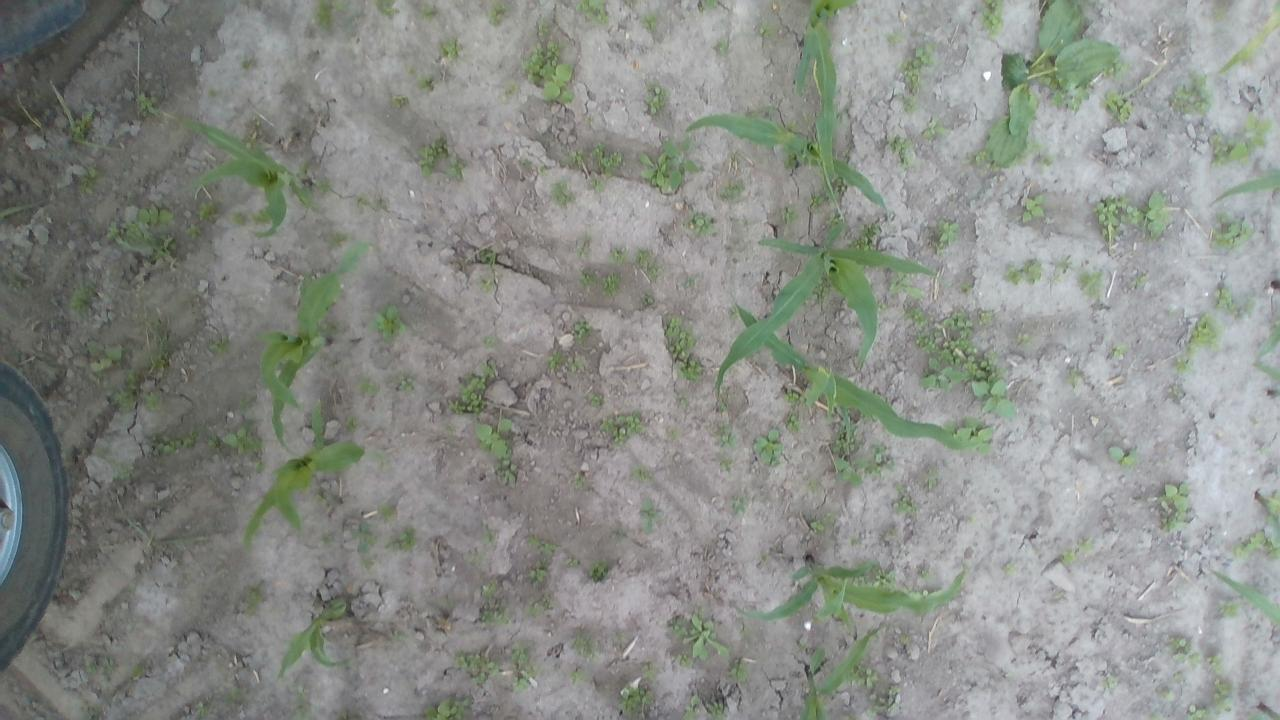Maize: (712, 215, 941, 402), (728, 298, 988, 452), (252, 235, 370, 450), (683, 109, 893, 221), (162, 108, 326, 242), (240, 403, 384, 549), (730, 552, 969, 634), (786, 0, 860, 223), (785, 624, 884, 720), (273, 594, 357, 682), (1214, 0, 1280, 77), (1207, 568, 1280, 627), (1205, 168, 1280, 208)
Weeds: (978, 0, 1122, 170), (45, 78, 118, 154), (1091, 191, 1174, 248), (103, 203, 182, 261), (961, 346, 1016, 420), (638, 133, 702, 196), (518, 40, 577, 106), (562, 140, 626, 198), (1173, 310, 1229, 374), (895, 40, 940, 118), (474, 422, 529, 485), (1210, 114, 1274, 167), (660, 318, 709, 384), (669, 609, 728, 663), (446, 356, 496, 419), (1152, 476, 1196, 537), (1164, 72, 1216, 122), (81, 338, 132, 386), (466, 240, 506, 298), (937, 308, 977, 364), (413, 127, 454, 180), (944, 414, 997, 453), (67, 280, 113, 324), (456, 646, 504, 688), (598, 410, 648, 450), (1207, 210, 1258, 249), (748, 423, 788, 472), (367, 303, 412, 346), (140, 316, 172, 376), (1231, 526, 1279, 564), (93, 441, 136, 482), (104, 368, 141, 415), (148, 426, 201, 458), (920, 355, 964, 390), (424, 691, 477, 720), (510, 641, 540, 691), (864, 685, 906, 720), (224, 420, 267, 454), (830, 413, 863, 456), (975, 0, 1008, 43), (615, 686, 656, 720), (854, 566, 907, 591), (1212, 288, 1256, 318), (1160, 636, 1201, 668), (640, 78, 673, 116), (476, 598, 515, 630), (1208, 674, 1236, 718), (863, 441, 896, 478), (1016, 189, 1049, 226), (1101, 88, 1134, 125), (1250, 490, 1280, 530), (638, 496, 667, 537), (686, 208, 722, 241), (540, 350, 588, 374), (70, 162, 102, 198), (572, 630, 604, 666), (831, 456, 868, 487), (1002, 256, 1040, 286), (573, 0, 612, 29), (884, 133, 915, 168), (1050, 90, 1092, 115), (316, 0, 346, 35), (1106, 443, 1142, 472), (136, 92, 168, 124), (546, 176, 578, 207), (850, 220, 883, 250), (886, 273, 924, 299), (1076, 268, 1106, 299), (932, 220, 962, 251), (634, 7, 664, 38), (893, 485, 922, 517), (484, 0, 516, 29), (386, 525, 417, 553), (634, 248, 660, 281), (716, 177, 750, 202), (351, 521, 378, 552), (527, 592, 558, 619), (1025, 144, 1056, 170), (286, 687, 310, 720), (240, 582, 262, 618), (1214, 598, 1244, 624), (209, 330, 235, 360), (918, 114, 946, 141), (438, 34, 465, 62), (570, 231, 596, 260), (69, 701, 108, 720), (598, 268, 624, 296), (530, 15, 561, 38), (353, 191, 385, 213), (443, 152, 465, 184), (0, 260, 25, 288), (922, 461, 946, 490), (900, 303, 929, 326), (1050, 254, 1072, 284), (856, 664, 882, 689), (356, 373, 382, 398), (528, 557, 554, 582), (412, 72, 439, 96), (464, 545, 491, 569), (585, 558, 612, 582), (716, 424, 739, 452), (410, 1, 438, 24), (815, 278, 837, 307), (640, 660, 665, 685), (572, 320, 596, 346), (195, 198, 219, 224), (727, 658, 751, 684), (784, 386, 812, 408), (376, 502, 404, 524), (1164, 379, 1188, 404), (324, 228, 349, 252), (575, 268, 598, 294), (1106, 340, 1132, 363), (674, 392, 696, 419), (1203, 649, 1225, 676), (396, 368, 418, 395), (1186, 703, 1220, 720), (371, 0, 403, 18), (237, 390, 260, 415), (629, 462, 655, 484), (220, 686, 247, 707), (912, 332, 937, 354), (312, 170, 334, 195), (805, 516, 831, 537), (1130, 270, 1157, 290), (609, 526, 632, 549), (608, 248, 632, 270), (181, 703, 212, 720), (500, 78, 521, 103), (707, 701, 734, 720), (808, 190, 831, 212), (892, 622, 913, 646), (782, 410, 802, 435), (243, 116, 262, 142), (713, 35, 736, 56), (683, 696, 703, 720), (226, 206, 250, 226), (569, 668, 595, 686), (968, 148, 991, 168), (1066, 367, 1086, 390), (1105, 58, 1128, 78), (777, 204, 800, 224), (478, 580, 501, 600), (834, 176, 853, 200), (478, 520, 495, 546), (83, 655, 104, 676), (388, 92, 410, 112), (130, 662, 152, 682), (977, 306, 996, 329), (886, 28, 910, 46), (763, 98, 780, 123), (780, 153, 805, 170), (570, 471, 590, 492), (1076, 535, 1096, 556), (1210, 4, 1230, 25), (184, 221, 204, 242), (143, 392, 164, 412), (753, 21, 775, 40), (804, 110, 820, 136), (730, 494, 746, 519), (564, 551, 584, 571), (479, 336, 498, 357), (1156, 687, 1179, 704), (14, 693, 40, 708), (825, 209, 845, 228), (342, 414, 361, 434), (636, 292, 658, 309), (204, 432, 222, 452), (591, 392, 612, 409), (1018, 332, 1040, 348), (1053, 588, 1072, 606), (1058, 548, 1077, 566), (733, 624, 752, 642), (528, 532, 546, 551), (681, 273, 701, 290), (804, 478, 824, 495), (702, 0, 728, 13), (446, 422, 462, 442), (400, 61, 421, 76), (103, 657, 118, 678), (517, 156, 534, 174), (205, 86, 224, 102), (612, 628, 626, 649), (1002, 558, 1018, 576), (390, 630, 410, 644), (316, 534, 336, 548), (534, 161, 550, 178), (360, 557, 377, 573), (239, 54, 254, 72), (125, 578, 140, 596), (720, 458, 734, 477), (1105, 673, 1119, 692), (1172, 669, 1186, 688), (917, 562, 933, 578), (845, 531, 862, 546), (64, 587, 81, 602), (822, 508, 837, 524), (757, 552, 770, 570), (796, 636, 810, 652), (966, 512, 980, 528), (542, 544, 558, 558), (784, 118, 801, 131), (960, 280, 973, 296), (33, 711, 53, 720), (1147, 711, 1166, 720), (256, 458, 266, 475)
